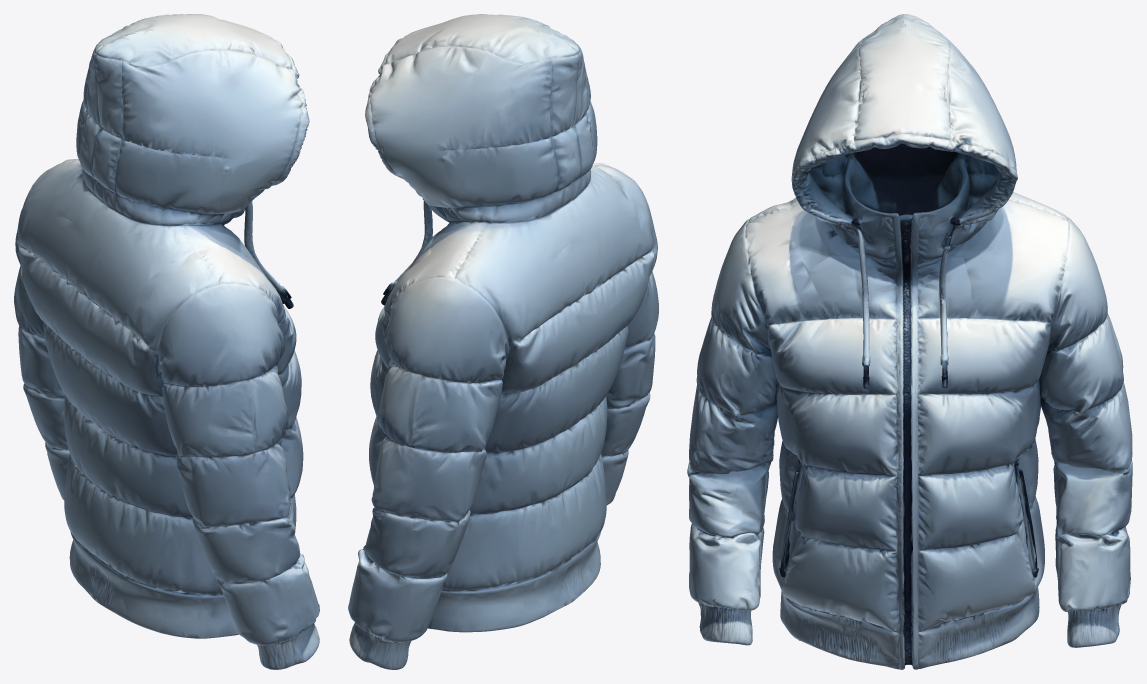
Rendered from glacier.glb.
The picture shows the model from 3 angles, left to right: view 1: azimuth 30°, elevation 25°; view 2: azimuth 150°, elevation 25°; view 3: azimuth 270°, elevation 25°; orthographic projection.
Parts seen in each view (by area): view 1: tripo_node_63087593-5f01-4de6-88f5-1e2e0367c0ea; view 2: tripo_node_63087593-5f01-4de6-88f5-1e2e0367c0ea; view 3: tripo_node_63087593-5f01-4de6-88f5-1e2e0367c0ea.
Boxes of the visible parts, box(x1,y1,x2,y2) form: tripo_node_63087593-5f01-4de6-88f5-1e2e0367c0ea: box(14, 14, 319, 669); tripo_node_63087593-5f01-4de6-88f5-1e2e0367c0ea: box(348, 14, 658, 669); tripo_node_63087593-5f01-4de6-88f5-1e2e0367c0ea: box(687, 14, 1132, 669).
Size of the model in its own units: 0.363 by 0.98 by 0.6711.
1 material, 1 textured.
